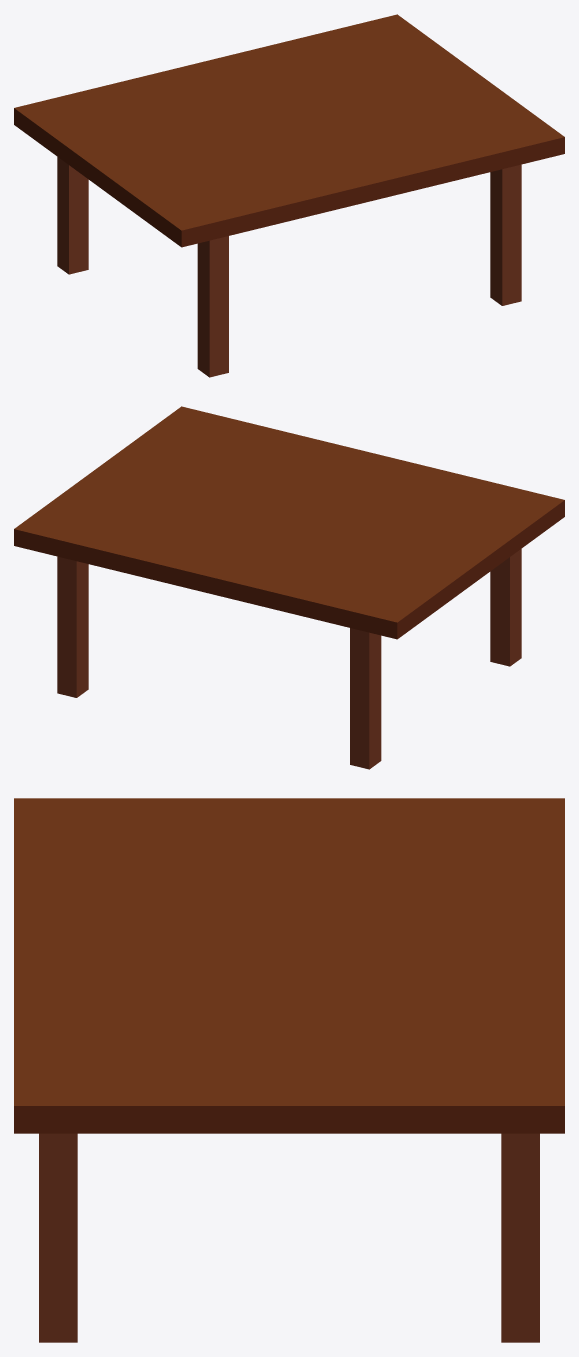
3 views of the same model, one above another, from view 1: azimuth 30°, elevation 25°; view 2: azimuth 150°, elevation 25°; view 3: azimuth 270°, elevation 25° (orthographic). The views are drawn at different scales.
Parts seen in each view (by area): view 1: Table; view 2: Table; view 3: Table.
Part boxes in pixels (x1=…): Table: x1=14, y1=14, x2=564, y2=377; Table: x1=14, y1=406, x2=564, y2=769; Table: x1=14, y1=798, x2=564, y2=1342.
Bounding box in the file's own units: 457 × 183 × 346.
